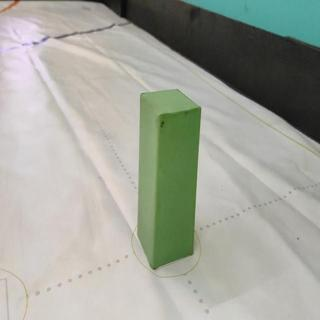greenbox: (135, 87, 201, 271)
